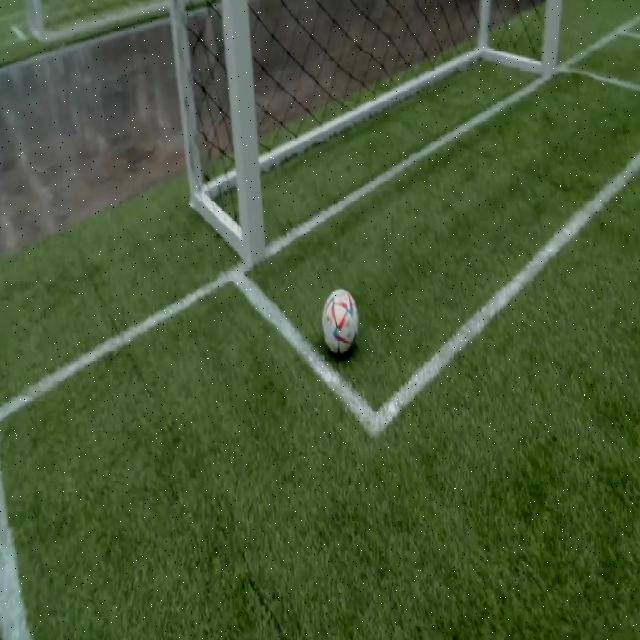ball: (322, 289, 359, 356)
goalpost: (228, 175, 276, 273), (533, 23, 563, 92)
